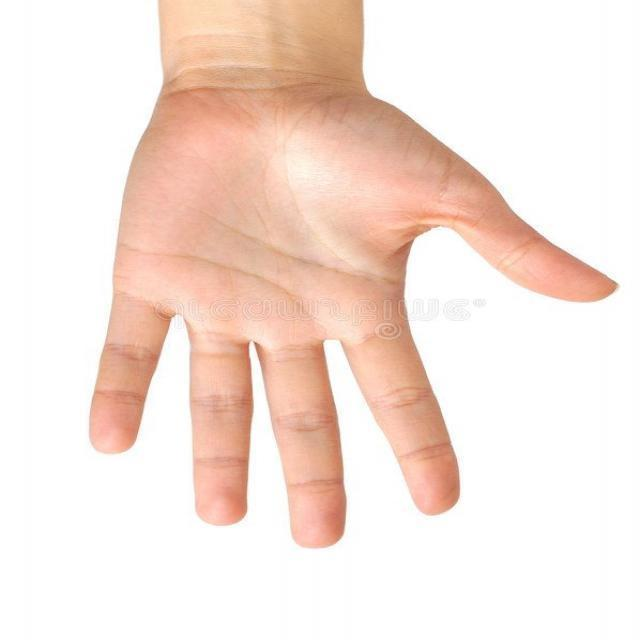no_apron: (49, 27, 625, 575)
